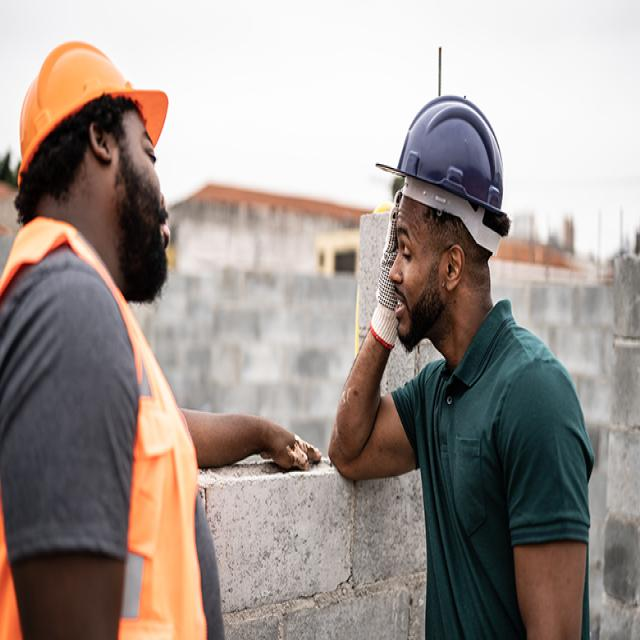helmet: (374, 88, 513, 263), (17, 35, 171, 190)
vest: (0, 225, 208, 640)
